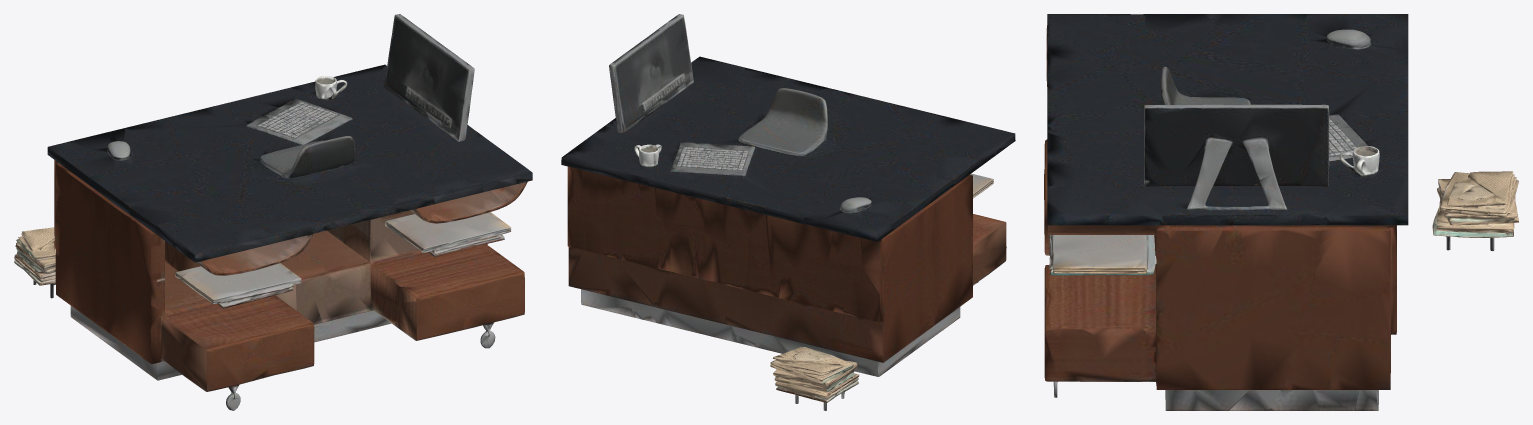
The model's file is reception_desk.glb.
3 views of the same model, side by side, from view 1: azimuth 30°, elevation 25°; view 2: azimuth 150°, elevation 25°; view 3: azimuth 270°, elevation 25° (orthographic). The views are drawn at different scales.
Visible parts, largest first — view 1: mesh_node; view 2: mesh_node; view 3: mesh_node.
Part boxes in pixels (x1=…): mesh_node: x1=14, y1=14, x2=532, y2=410; mesh_node: x1=561, y1=14, x2=1015, y2=410; mesh_node: x1=1044, y1=14, x2=1518, y2=410.
Bounding box in the file's own units: 1.9 × 1.33 × 1.89.
1 material, 1 textured.
